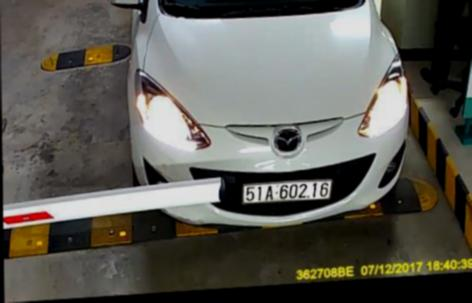License_Plate: (241, 172, 337, 211)
